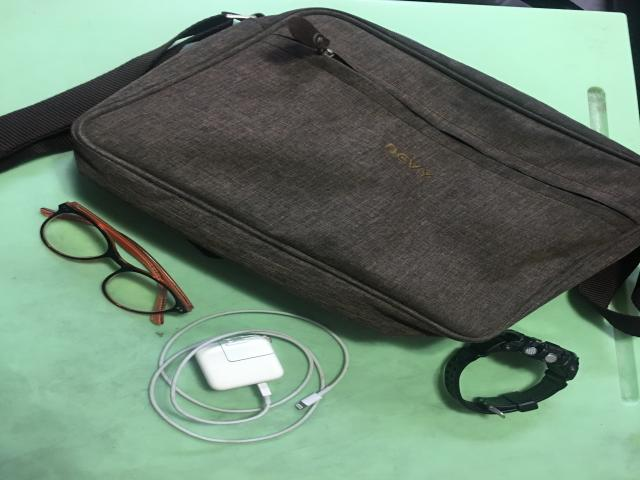Glasses: (40, 202, 193, 324)
Watch: (445, 330, 578, 417)
wire: (148, 309, 350, 443)
